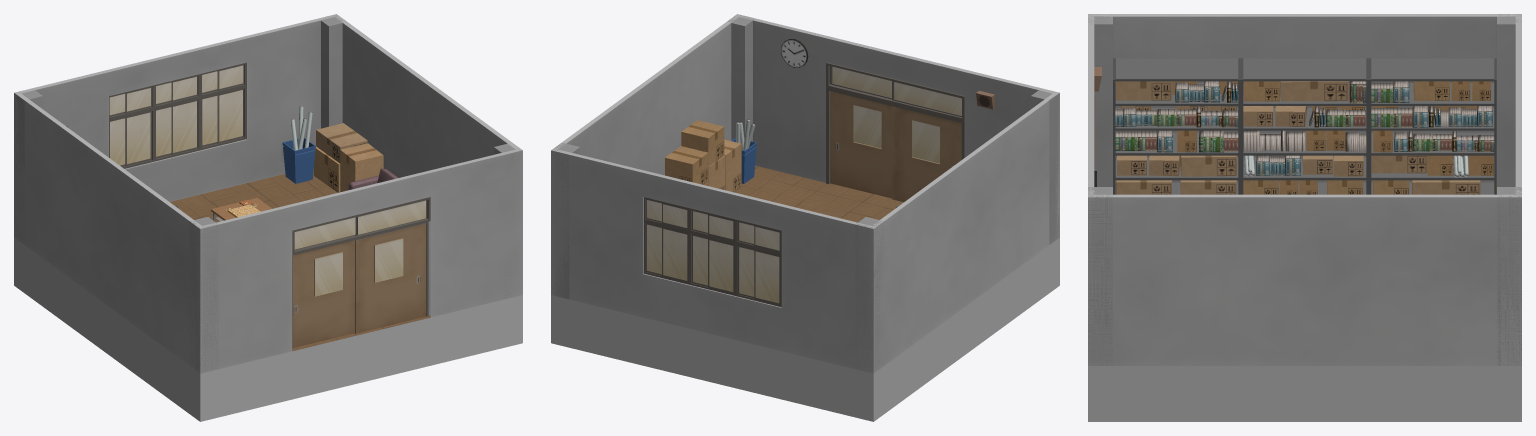
The model's file is ChessClub_220419.fbx.
3 renders of one model, left to right at view 1: azimuth 30°, elevation 25°; view 2: azimuth 150°, elevation 25°; view 3: azimuth 270°, elevation 25°, orthographic. The views are drawn at different scales.
Parts seen in each view (by area): view 1: polySurface132, polySurface135, Floor_Under, polySurface28, polySurface133, Wall_Sofa, polySurface65, Floor, Column04, Column01, Box053, Column03 (+4 smaller); view 2: polySurface28, polySurface135, Floor_Under, polySurface132, polySurface133, Wall_Sofa, polySurface65, Floor, Box059, Column02, Column04, Column03 (+4 smaller); view 3: Wall_Sofa, Floor_Under, polySurface135, Bookset051, polySurface156, group7_pCube46, group7_pCube45, group7_pCube44, Column02, Column03, polySurface158, Column04 (+9 smaller).
Boxes of the visible parts, <box> form: polySurface132: <box>200,149,522,373</box>; polySurface135: <box>14,92,201,372</box>; Floor_Under: <box>14,237,522,421</box>; polySurface28: <box>15,14,336,201</box>; polySurface133: <box>292,197,430,348</box>; Wall_Sofa: <box>335,14,522,177</box>; polySurface65: <box>109,63,246,168</box>; Floor: <box>170,168,430,351</box>; Column04: <box>189,217,218,373</box>; Column01: <box>321,14,345,128</box>; Box053: <box>340,143,383,192</box>; Column03: <box>14,90,42,241</box>; polySurface28: <box>551,149,873,373</box>; polySurface135: <box>872,92,1059,373</box>; Floor_Under: <box>551,237,1059,421</box>; polySurface132: <box>737,14,1058,182</box>; polySurface133: <box>826,62,964,202</box>; Wall_Sofa: <box>551,14,738,175</box>; polySurface65: <box>644,197,781,307</box>; Floor: <box>734,165,903,222</box>; Box059: <box>665,120,724,185</box>; Column02: <box>727,14,754,141</box>; Column04: <box>1031,90,1059,244</box>; Column03: <box>855,217,884,372</box>; Wall_Sofa: <box>1088,194,1521,365</box>; Floor_Under: <box>1088,366,1521,421</box>; polySurface135: <box>1089,14,1520,184</box>; Bookset051: <box>1115,81,1494,175</box>; polySurface156: <box>1116,81,1480,194</box>; group7_pCube46: <box>1368,58,1496,194</box>; group7_pCube45: <box>1240,58,1368,194</box>; group7_pCube44: <box>1113,58,1240,194</box>; Column02: <box>1088,187,1112,365</box>; Column03: <box>1497,14,1521,186</box>; polySurface158: <box>1243,81,1449,194</box>; Column04: <box>1088,14,1112,186</box>.
Bounding box in the file's own units: 700 × 400 × 700.
